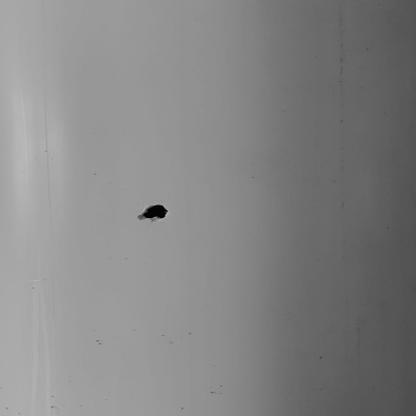kongdong: (129, 194, 183, 229)
